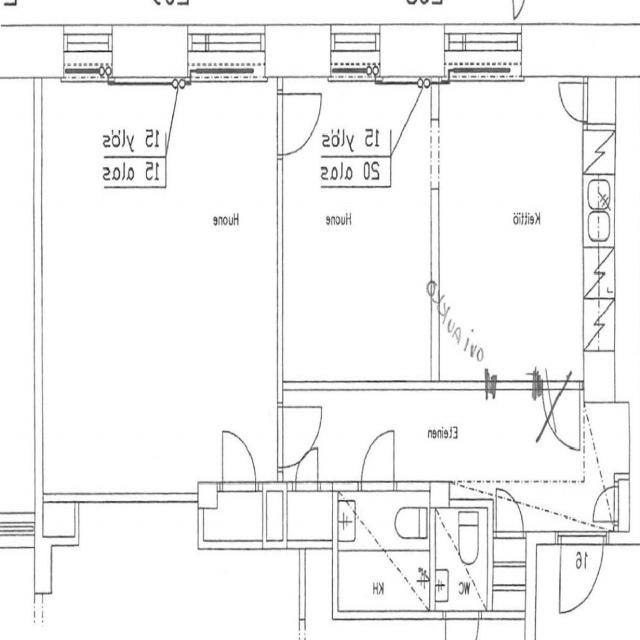door: (561, 530, 604, 613), (278, 94, 322, 154), (278, 408, 322, 467), (362, 430, 394, 491), (223, 430, 255, 491), (496, 488, 523, 538), (559, 83, 587, 122), (296, 447, 318, 491)
